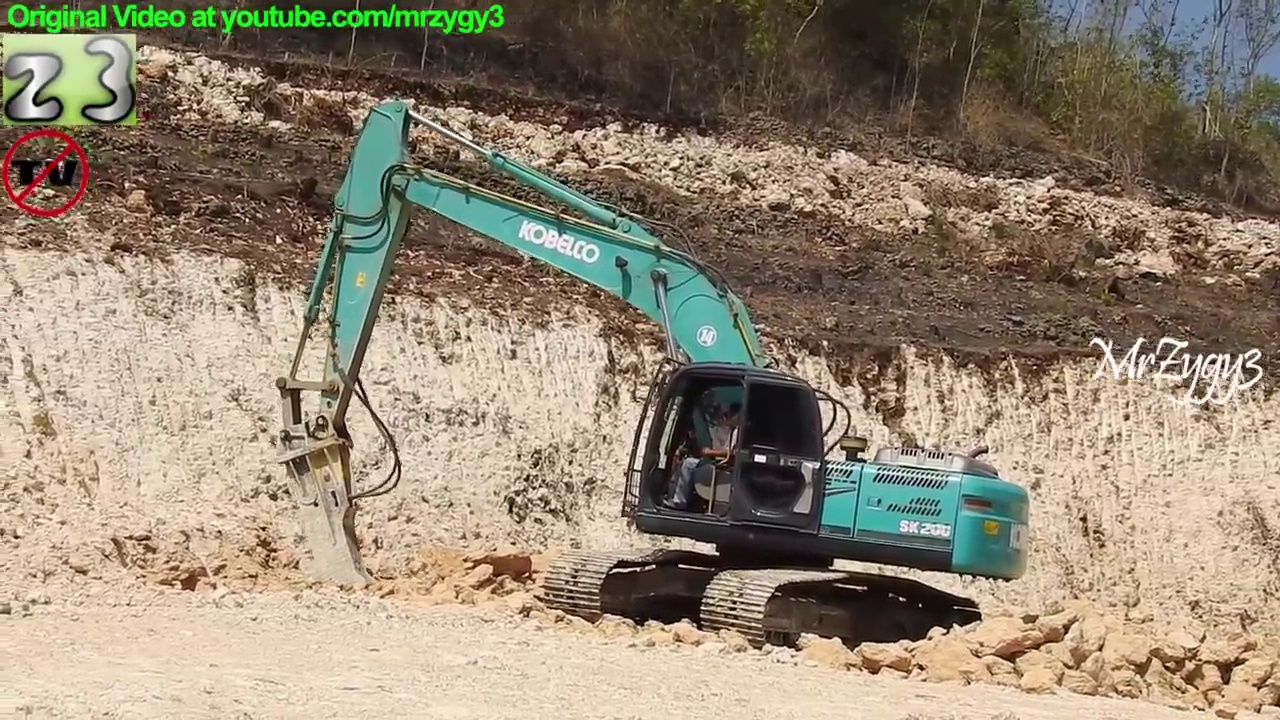excavator breaker: (267, 92, 1040, 679)
